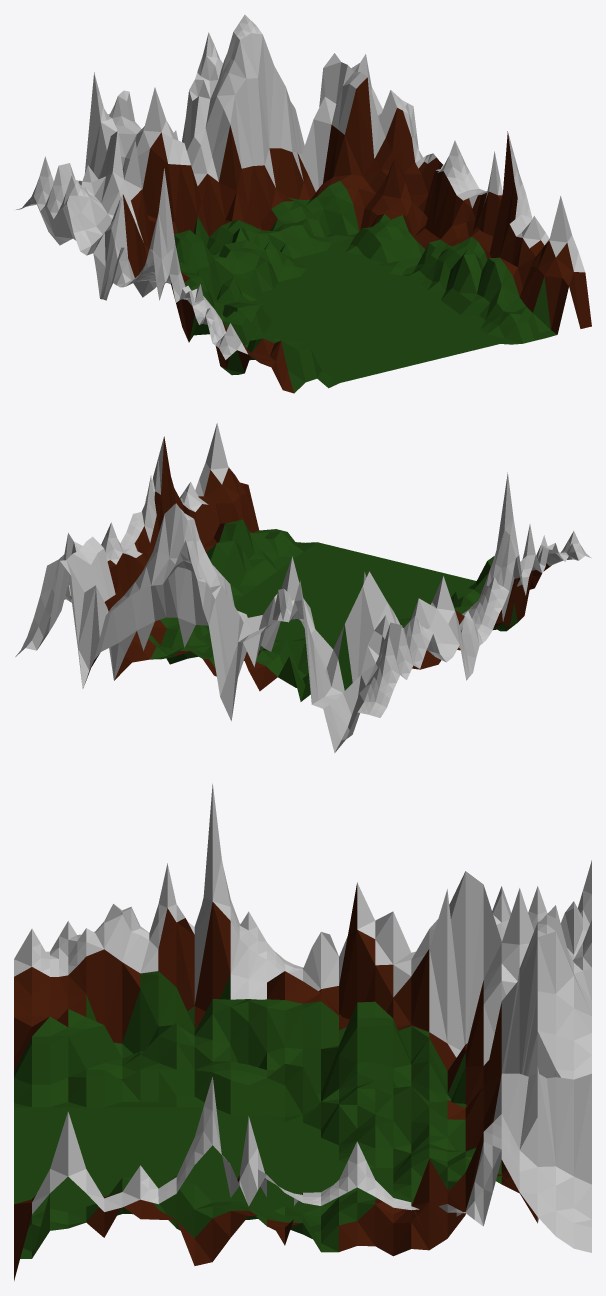
Rendered from valley.obj.
3 views of the same model, one above another, from view 1: azimuth 30°, elevation 25°; view 2: azimuth 150°, elevation 25°; view 3: azimuth 270°, elevation 25° (orthographic). The views are drawn at different scales.
Bounding box in the file's own units: 300 × 159 × 300.
